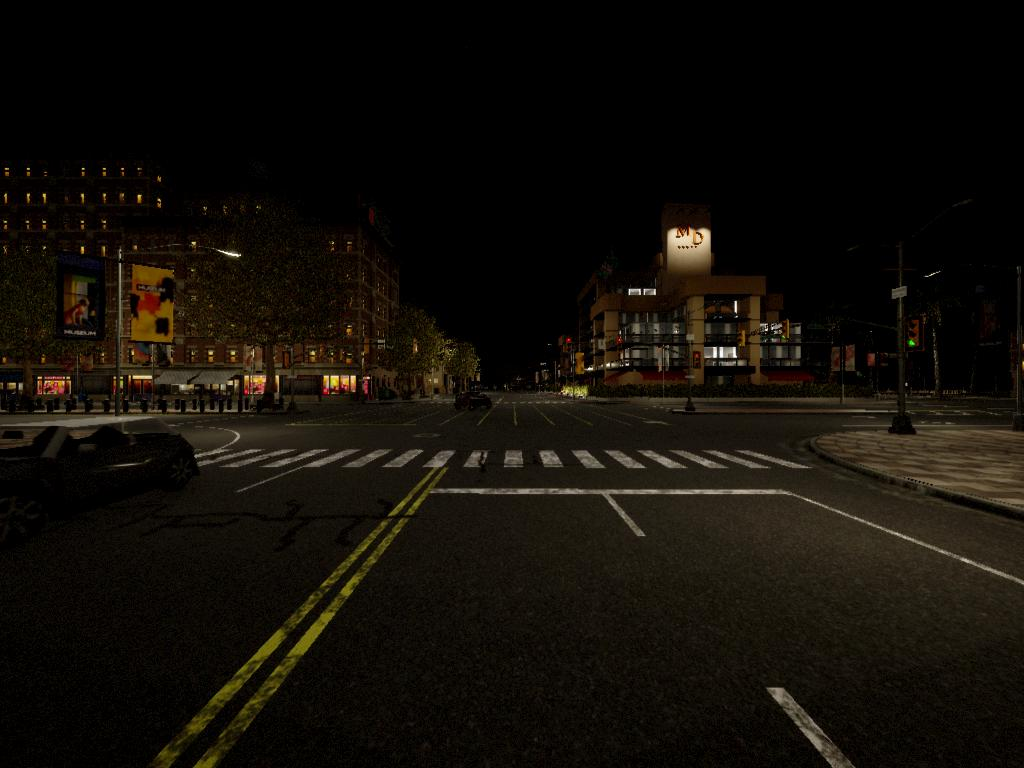traffic_light: (907, 318, 926, 350), (563, 339, 576, 355), (783, 321, 790, 344), (693, 352, 702, 369), (739, 331, 746, 349), (617, 338, 625, 351)
